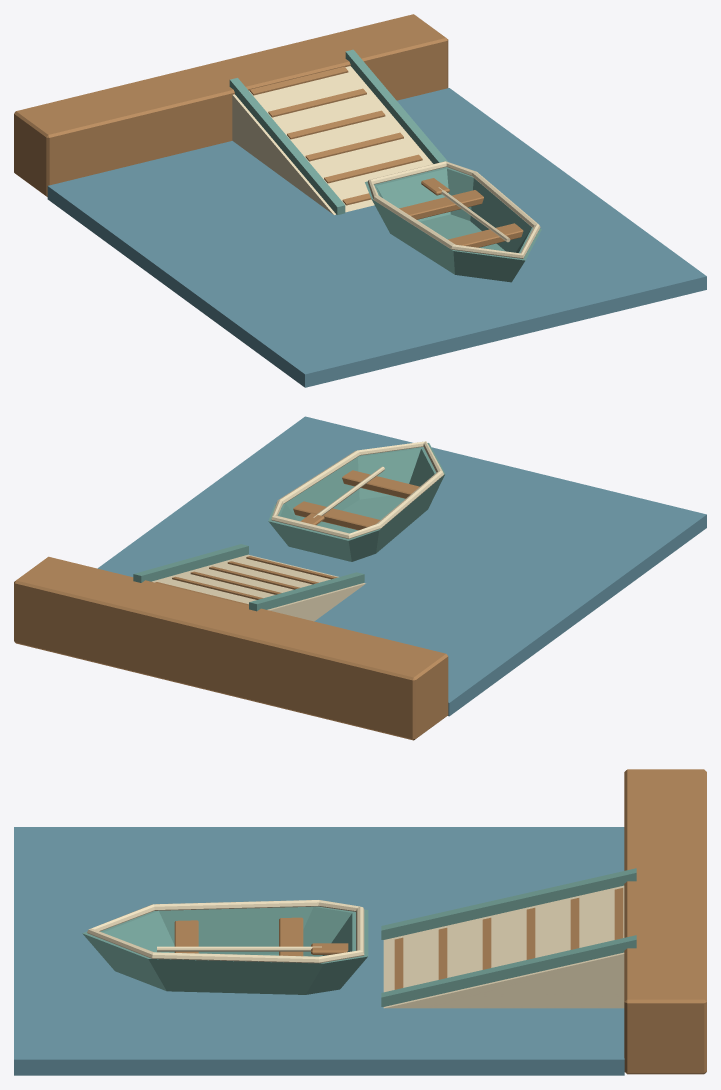
3 views of the same model, one above another, from view 1: azimuth 30°, elevation 25°; view 2: azimuth 150°, elevation 25°; view 3: azimuth 270°, elevation 25° (orthographic). The views are drawn at different scales.
Visible parts, largest first — view 1: WaterSurface, LaunchShore, WorkSkiff; view 2: WaterSurface, LaunchShore, WorkSkiff; view 3: WaterSurface, LaunchShore, WorkSkiff.
Part boxes in pixels (x1,y1,x2,y2): WaterSurface: [47, 88, 706, 387]; LaunchShore: [14, 14, 448, 215]; WorkSkiff: [365, 161, 541, 282]; WaterSurface: [97, 416, 706, 716]; LaunchShore: [14, 544, 448, 740]; WorkSkiff: [268, 441, 445, 561]; WaterSurface: [14, 827, 624, 1075]; LaunchShore: [381, 769, 706, 1074]; WorkSkiff: [82, 900, 368, 994].
Bounding box in the file's own units: 5 × 0.835 × 6.3.
